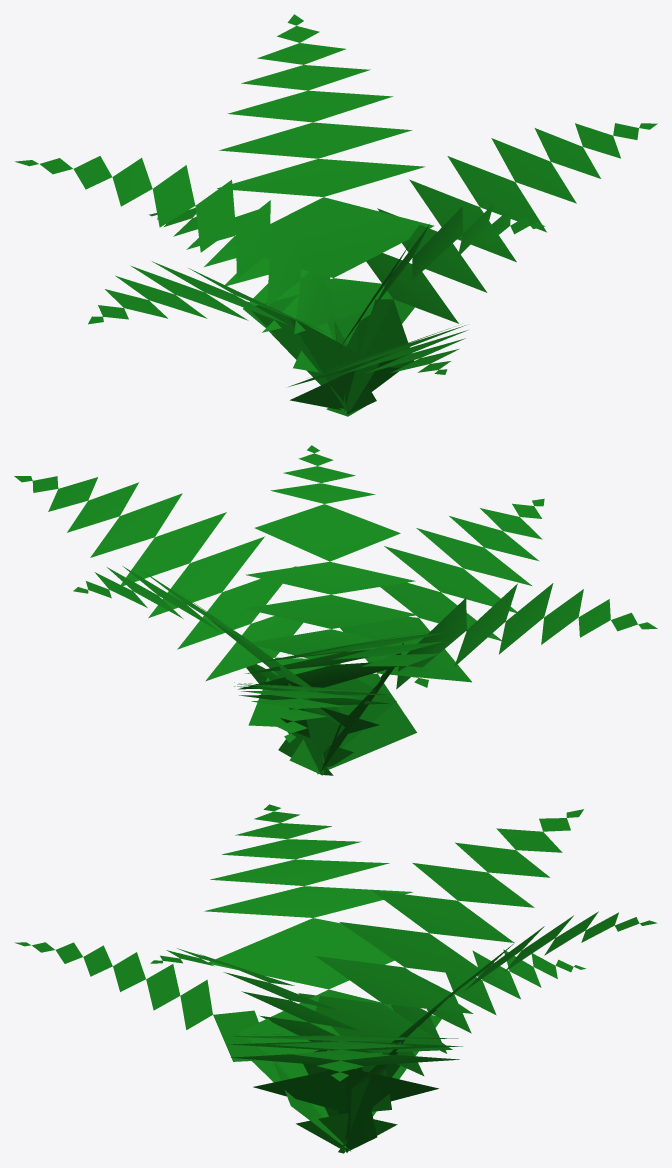
Rendered from plant0.fbx.
The picture shows the model from 3 angles, top to bottom: view 1: azimuth 30°, elevation 25°; view 2: azimuth 150°, elevation 25°; view 3: azimuth 270°, elevation 25°; orthographic projection. The views are drawn at different scales.
Parts seen in each view (by area): view 1: Fern; view 2: Fern; view 3: Fern.
Part boxes in pixels (left/top/right/bottom): Fern: left=15, top=14, right=657, bottom=416; Fern: left=14, top=445, right=657, bottom=775; Fern: left=14, top=804, right=657, bottom=1153.
Bounding box in the file's own units: 2.27 × 0.9637 × 2.01.
